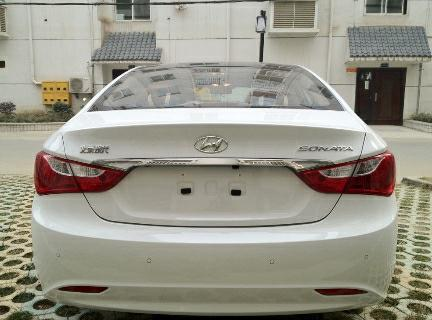现代-捷恩斯: (28, 58, 402, 320)
